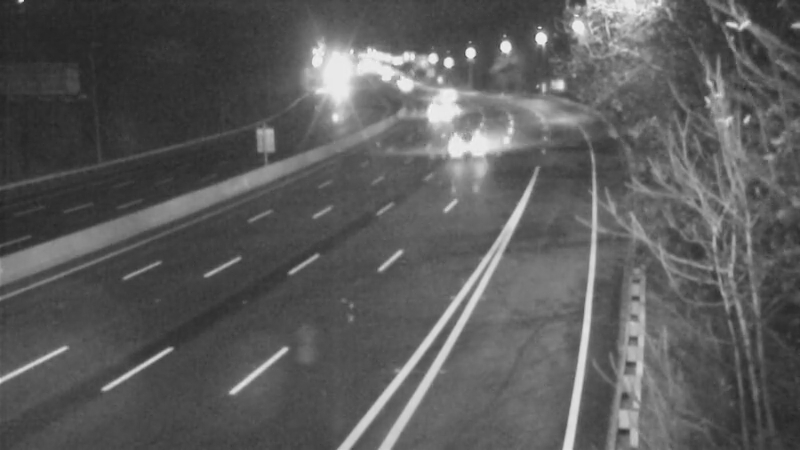vehicle: (422, 66, 472, 116), (413, 89, 463, 139), (432, 121, 482, 171)
